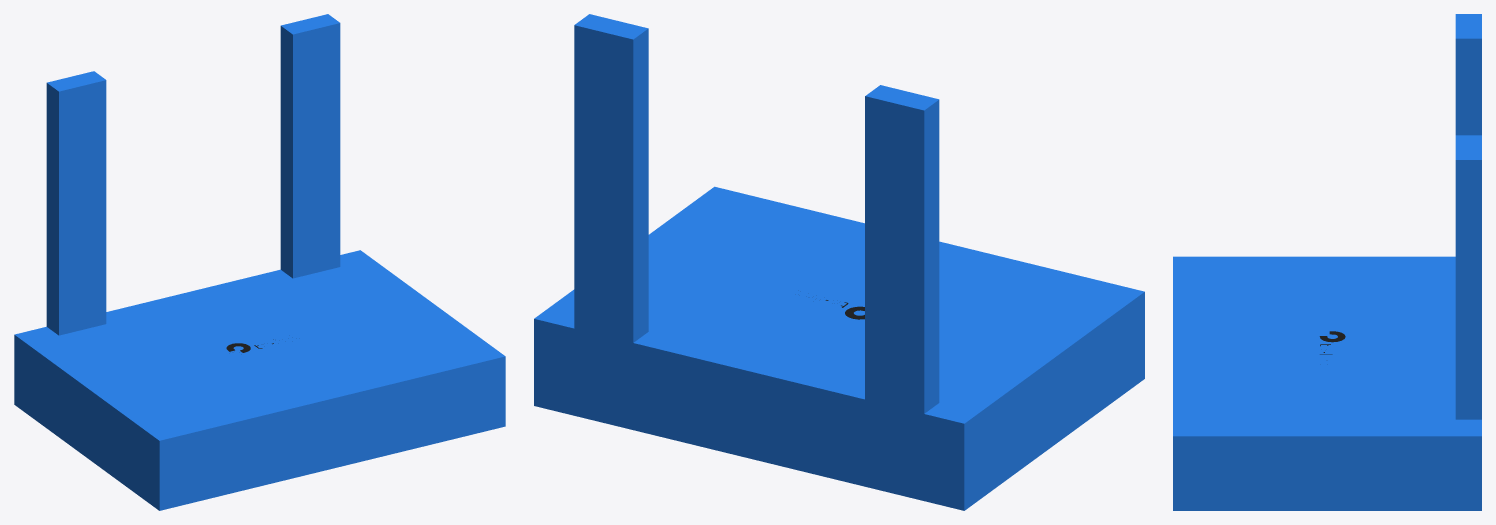
File: tplink.glb
The picture shows the model from 3 angles, left to right: view 1: azimuth 30°, elevation 25°; view 2: azimuth 150°, elevation 25°; view 3: azimuth 270°, elevation 25°; orthographic projection. The views are drawn at different scales.
Parts seen in each view (by area): view 1: COL_body, COL_antenna_01, COL_antenna_02; view 2: COL_body, COL_antenna_02, COL_antenna_01; view 3: COL_body, COL_antenna_02, COL_antenna_01.
Boxes of the visible parts, x1,y1,x2,y2 form: COL_body: (14, 250, 505, 510); COL_antenna_01: (46, 71, 106, 335); COL_antenna_02: (280, 14, 340, 278); COL_body: (534, 186, 1144, 510); COL_antenna_02: (574, 14, 648, 345); COL_antenna_01: (865, 85, 939, 415); COL_body: (1173, 256, 1481, 510); COL_antenna_02: (1455, 135, 1481, 419); COL_antenna_01: (1455, 14, 1481, 135).
Size of the model in its own units: 0.44 by 0.3816 by 0.3196.
